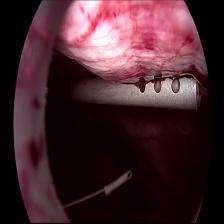Irrigator: (109, 65, 202, 124)
